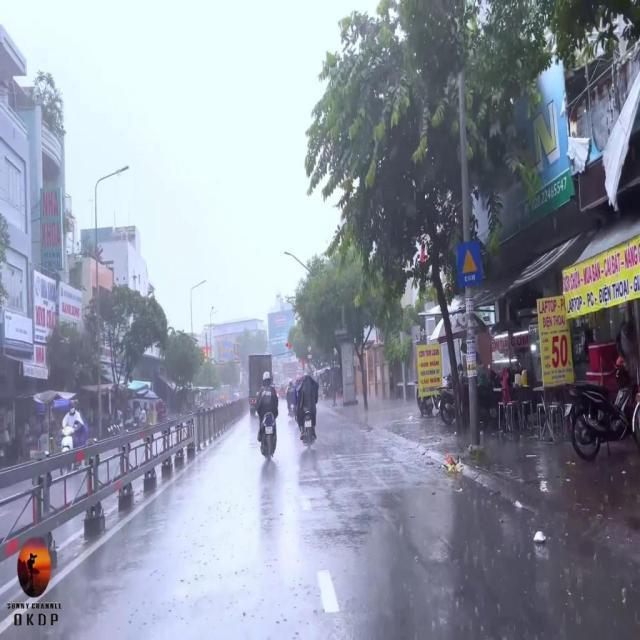442-cho: (456, 242, 482, 286)
